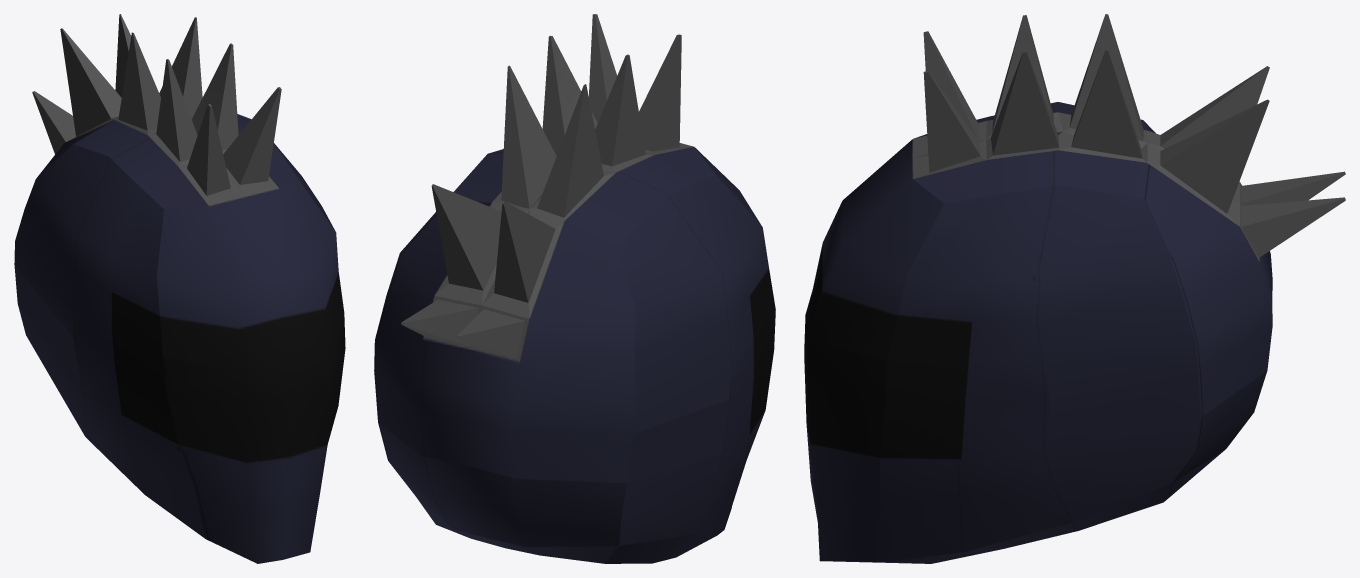
The model's file is spikeyHelmet.fbx.
The picture shows the model from 3 angles, left to right: view 1: azimuth 30°, elevation 25°; view 2: azimuth 150°, elevation 25°; view 3: azimuth 270°, elevation 25°; orthographic projection. The views are drawn at different scales.
Parts seen in each view (by area): view 1: spikeyHelmet; view 2: spikeyHelmet; view 3: spikeyHelmet.
Boxes of the visible parts, box(x1,y1,x2,y2) form: spikeyHelmet: box(14, 14, 345, 563); spikeyHelmet: box(374, 14, 775, 563); spikeyHelmet: box(804, 14, 1345, 563).
Bounding box in the file's own units: 17.95 × 32.03 × 30.35.
1 material, 1 textured.
